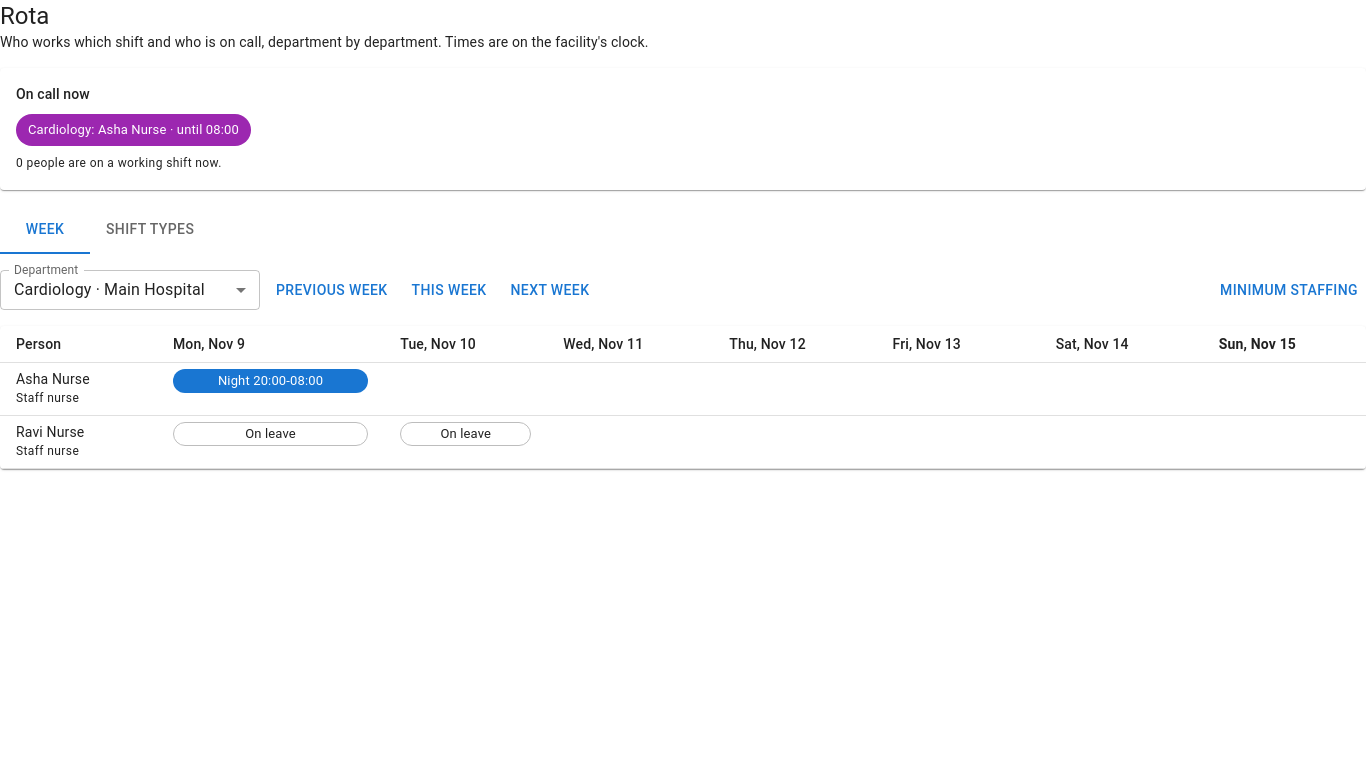
Test: Minimum staffing (HIMS-STAFF-015) › someone who only sees the rota can read the numbers, not change them
Click the button "Minimum staffing": (1289, 290) x1=1212 y1=272 x2=1365 y2=308
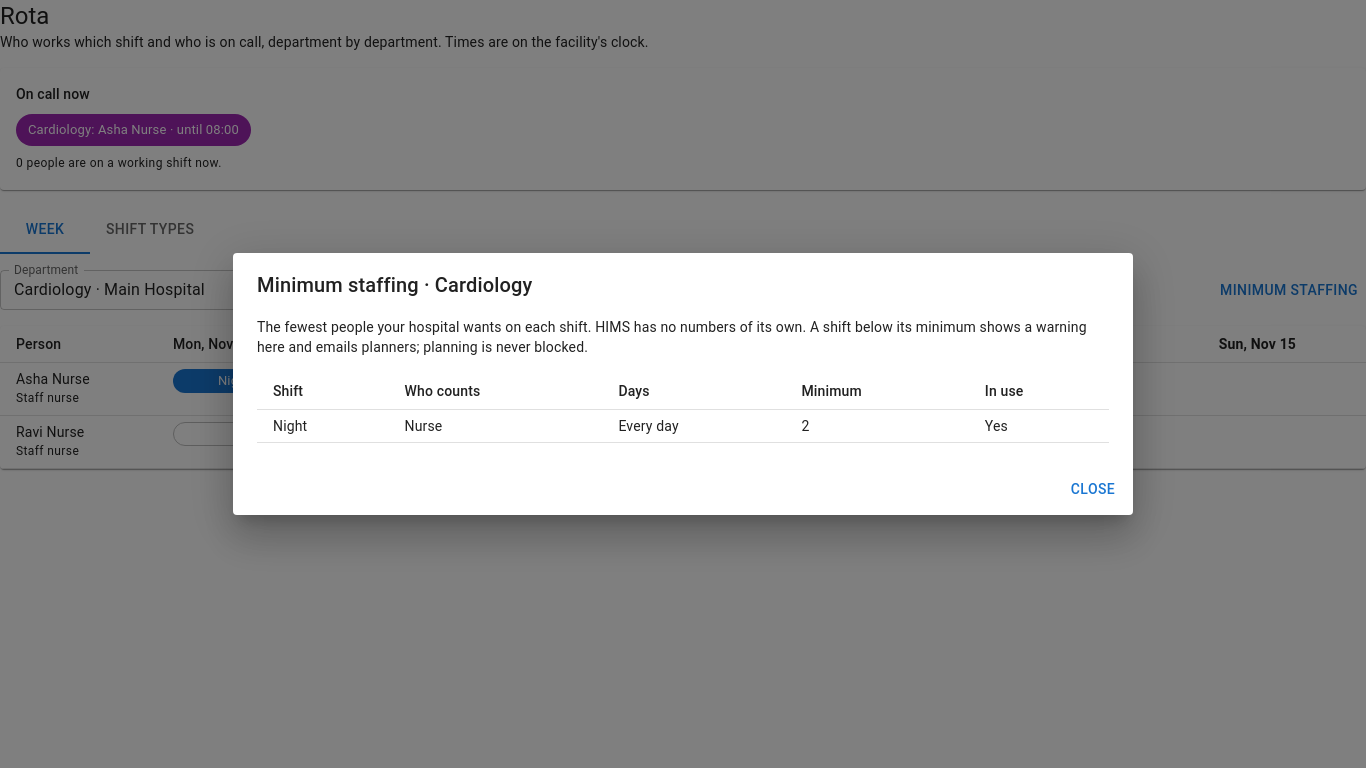
expect the table named "Minimum staffing" shows "2": met, box x1=802 y1=418 x2=810 y2=434
